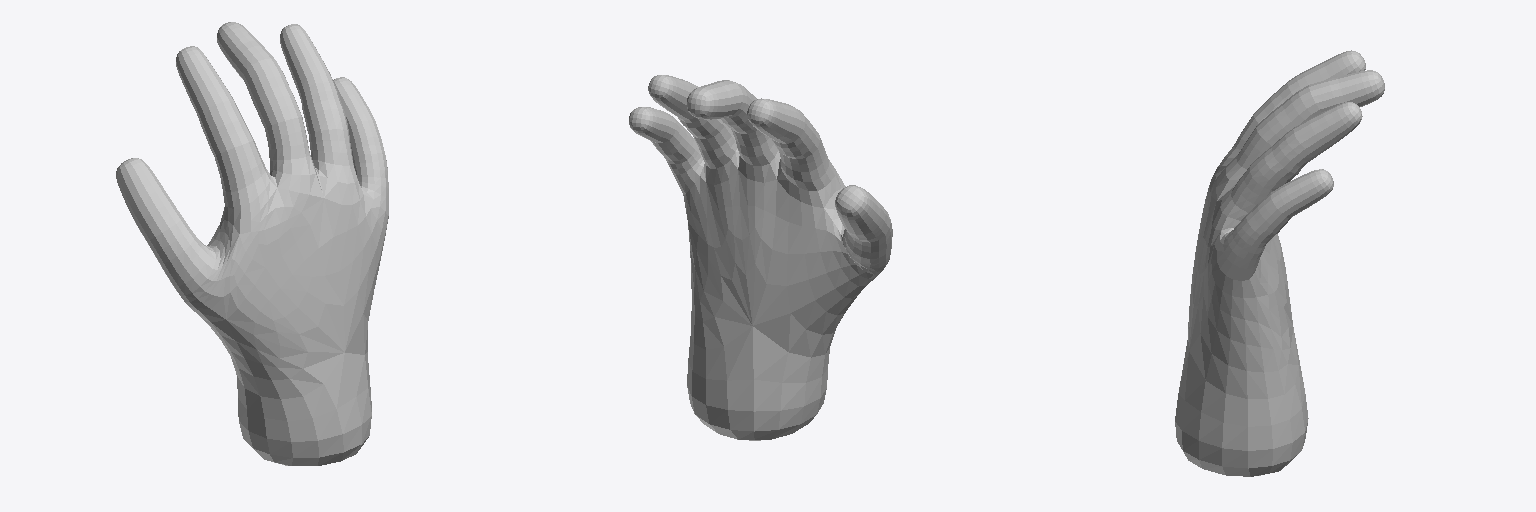
File: hand1.obj
3 views of the same model, side by side, from view 1: azimuth 30°, elevation 25°; view 2: azimuth 150°, elevation 25°; view 3: azimuth 270°, elevation 25° (orthographic).
Parts seen in each view (by area): view 1: Cube; view 2: Cube; view 3: Cube.
Boxes of the visible parts, <box> form: Cube: <box>116,22,388,465</box>; Cube: <box>629,75,892,440</box>; Cube: <box>1175,50,1384,476</box>.
Bounding box in the file's own units: 3.64 × 5.67 × 2.78.